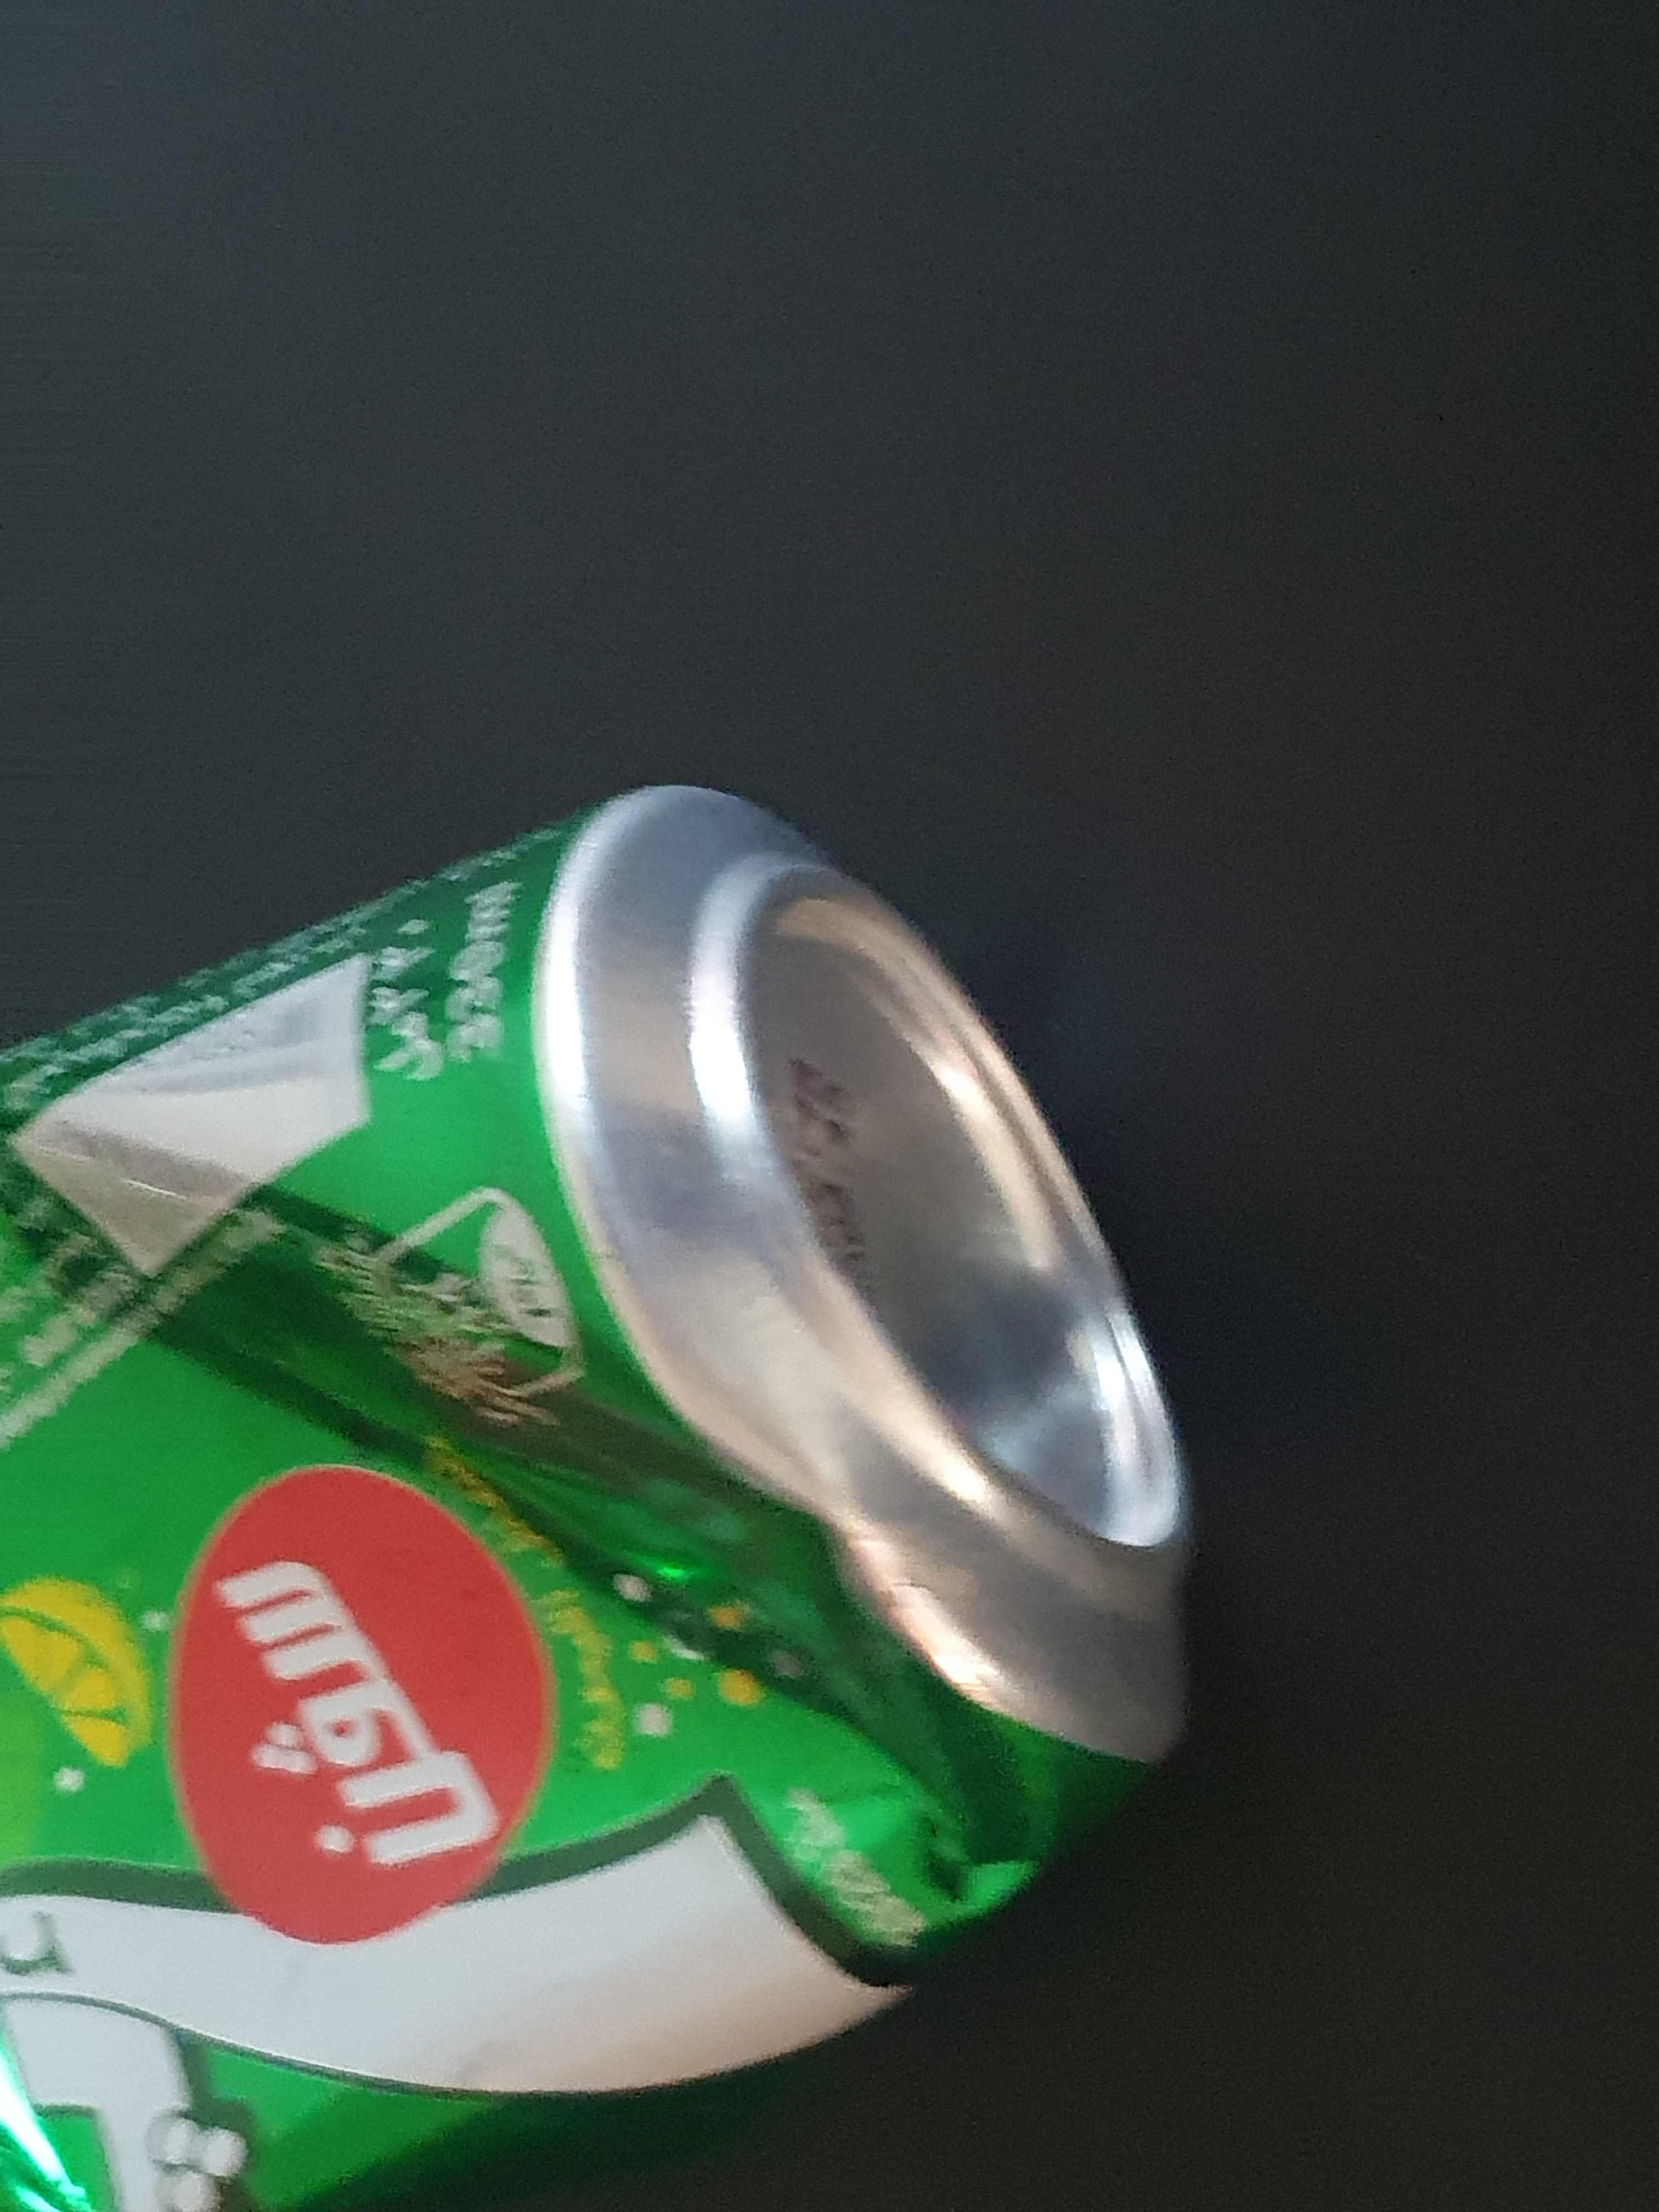metal: (3, 751, 1227, 2212)
